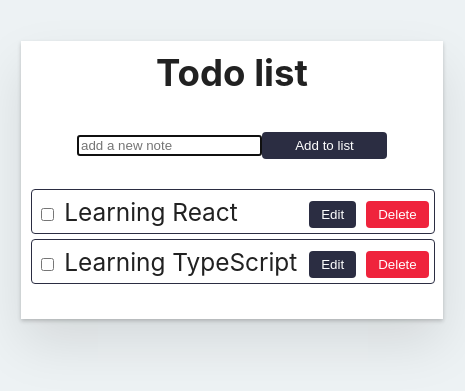
it: Test Todo list with initial data › Add new note by click on submit button
The image size is (465, 391).
Type "learning unit testing" into the field with placeholder "add a new note" at (170, 145), box [77, 135, 262, 156]
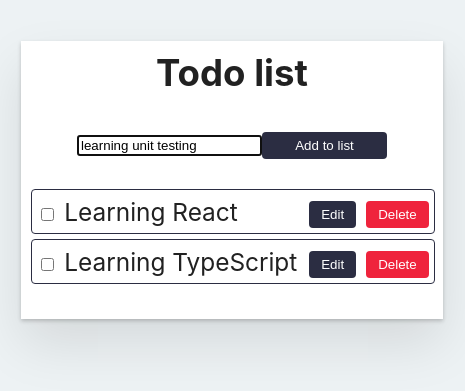
Click the button "Add to list" at (324, 145), box [262, 132, 387, 159]
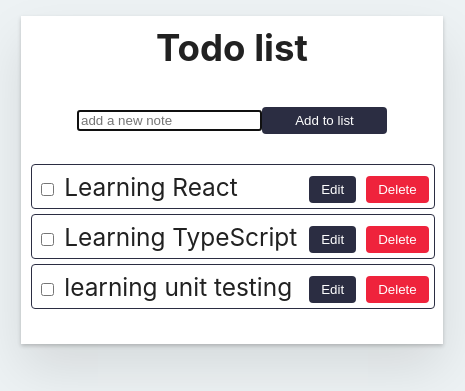
Expected: the text "learning unit testing" is shown, [64, 272, 292, 302]
